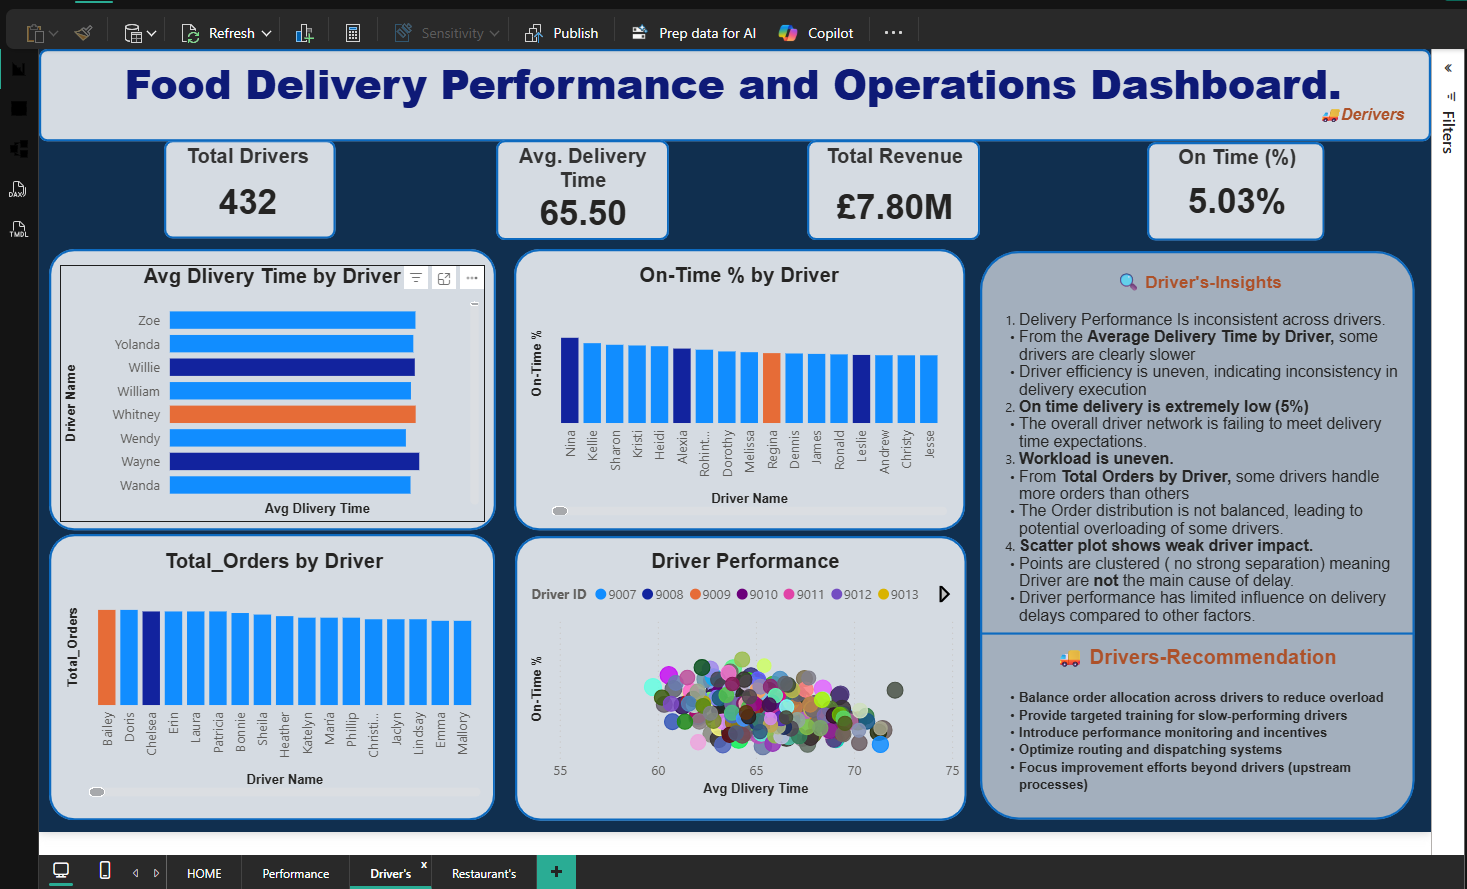

What the dashboard file says about the page in this screenshot:
{"tool":"powerbi","page":{"name":"Driver's ","canvas":[1280,720],"ordinal":2},"visuals":[{"type":"shape","box":[9.2,183.9,410.9,258.9],"z":0},{"type":"shape","box":[9.7,445.9,410.2,263.5],"z":1000},{"type":"shape","box":[436.6,183.9,415,258.9],"z":2000},{"type":"shape","box":[437.5,448,415.4,261.8],"z":3000},{"type":"shape","box":[115.4,83.8,157.9,90.6],"z":4000},{"type":"shape","box":[0,0,1280,84.9],"z":5000},{"type":"shape","box":[420.3,83.8,159.3,92],"z":6000},{"type":"shape","box":[705.9,83.8,159.3,92],"z":7000},{"type":"shape","box":[1019.1,85.2,163.4,90.6],"z":8000},{"type":"shape","box":[865,185.9,399.6,522.9],"z":9000},{"type":"textbox","box":[73.3,0,1139.2,74.5],"z":10000},{"type":"textbox","box":[1152,44.2,128,30.3],"z":11000},{"type":"card","title":"Avg. Delivery Time","fields":{"Values":["Measure.Avg Dlivery Time"]},"box":[425.9,88.4,148.9,81.5],"z":12000},{"type":"card","title":"Total Revenue ","fields":{"Values":["Sum(Food Delivery.Total Revenue)"]},"box":[708.7,88.4,155.9,90.8],"z":13000},{"type":"card","title":"Total Drivers","fields":{"Values":["Measure.Total Drivers"]},"box":[126.8,88.4,130.3,81.5],"z":14000},{"type":"card","title":"On Time (%)","fields":{"Values":["Measure.On-Time %"]},"box":[1036.9,89.3,129.1,78.3],"z":15000},{"type":"clusteredBarChart","title":"Avg Dlivery Time by Driver","fields":{"Category":["Food Delivery.Driver Name"],"Y":["Measure.Avg Dlivery Time"]},"box":[19.5,198.3,390.4,236.3],"z":16000},{"type":"clusteredColumnChart","title":"On-Time % by Driver","fields":{"Category":["Food Delivery.Driver Name"],"Y":["Measure.On-Time %"]},"box":[448,197.8,392.1,236.2],"z":17000},{"type":"clusteredColumnChart","title":"Total_Orders by Driver ","fields":{"Y":["Measure.Total_Orders"],"Category":["Food Delivery.Driver Name"]},"box":[20.9,460.8,389.8,231.6],"z":18000},{"type":"scatterChart","title":"Driver Performance ","fields":{"X":["Measure.Avg Dlivery Time"],"Y":["Measure.On-Time %"],"Size":["Measure.Total_Orders"],"Series":["Food Delivery.Driver ID"]},"box":[448,460.8,403.8,231.6],"z":19000},{"type":"textbox","box":[878.3,197.9,377.4,503.8],"z":20000},{"type":"shape","box":[865,519.8,399.6,36],"z":21000}]}

Visuals, with their boxes on the page's 1280x720 design canvas (x1, y1, x2, y2). These are canvas units, not pixel positions in the 1467x889 screenshot, which may show the page scaled, cropped or inside an application window:
shape: (left=9, top=184, right=420, bottom=443)
shape: (left=10, top=446, right=420, bottom=709)
shape: (left=437, top=184, right=852, bottom=443)
shape: (left=438, top=448, right=853, bottom=710)
shape: (left=115, top=84, right=273, bottom=174)
shape: (left=0, top=0, right=1280, bottom=85)
shape: (left=420, top=84, right=580, bottom=176)
shape: (left=706, top=84, right=865, bottom=176)
shape: (left=1019, top=85, right=1182, bottom=176)
shape: (left=865, top=186, right=1265, bottom=709)
textbox: (left=73, top=0, right=1212, bottom=74)
textbox: (left=1152, top=44, right=1280, bottom=74)
"Avg. Delivery Time" card: (left=426, top=88, right=575, bottom=170)
"Total Revenue " card: (left=709, top=88, right=865, bottom=179)
"Total Drivers" card: (left=127, top=88, right=257, bottom=170)
"On Time (%)" card: (left=1037, top=89, right=1166, bottom=168)
"Avg Dlivery Time by Driver" clusteredBarChart: (left=20, top=198, right=410, bottom=435)
"On-Time % by Driver" clusteredColumnChart: (left=448, top=198, right=840, bottom=434)
"Total_Orders by Driver " clusteredColumnChart: (left=21, top=461, right=411, bottom=692)
"Driver Performance " scatterChart: (left=448, top=461, right=852, bottom=692)
textbox: (left=878, top=198, right=1256, bottom=702)
shape: (left=865, top=520, right=1265, bottom=556)
